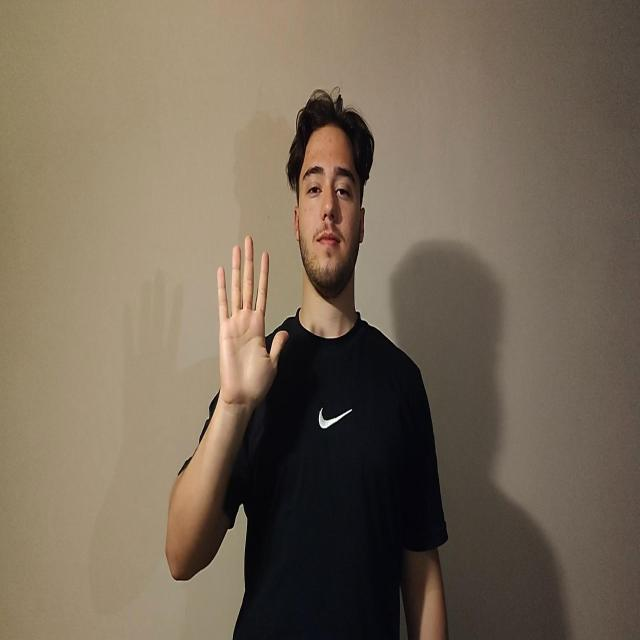hello: (216, 234, 289, 411)
